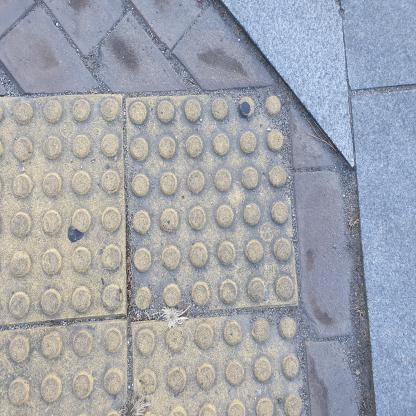podotacti: (0, 87, 314, 415)
